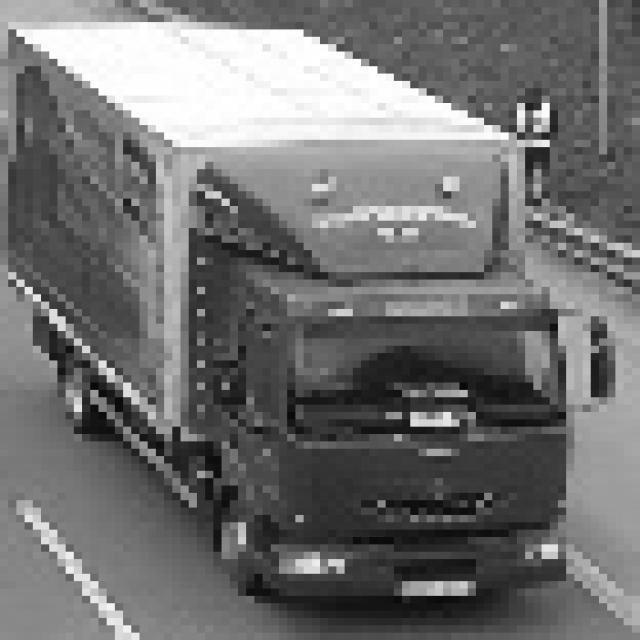truck: (164, 143, 640, 616)
